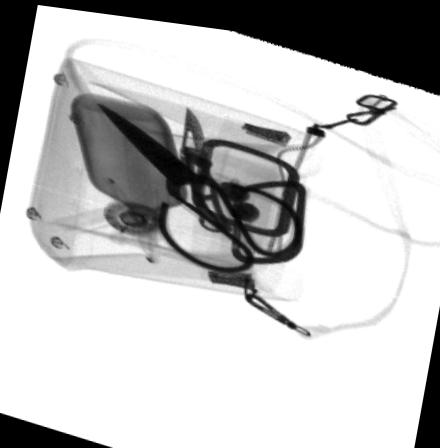Knife: (178, 100, 230, 226)
Scissors: (95, 100, 302, 268)
